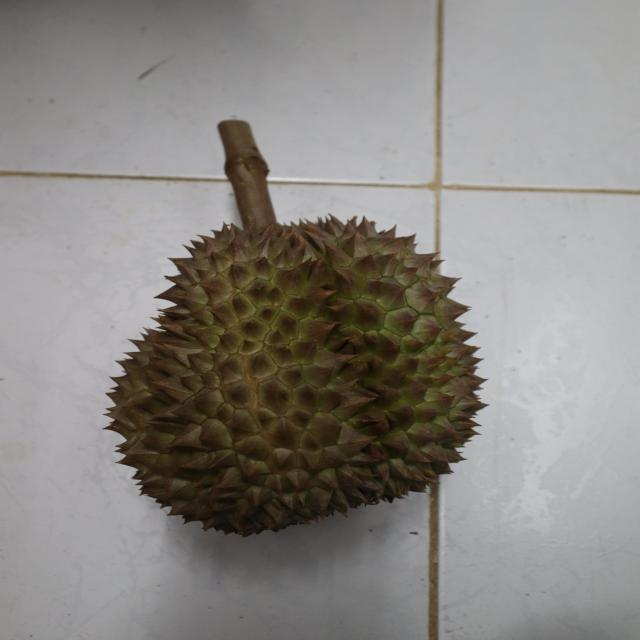mature: (103, 213, 492, 528)
